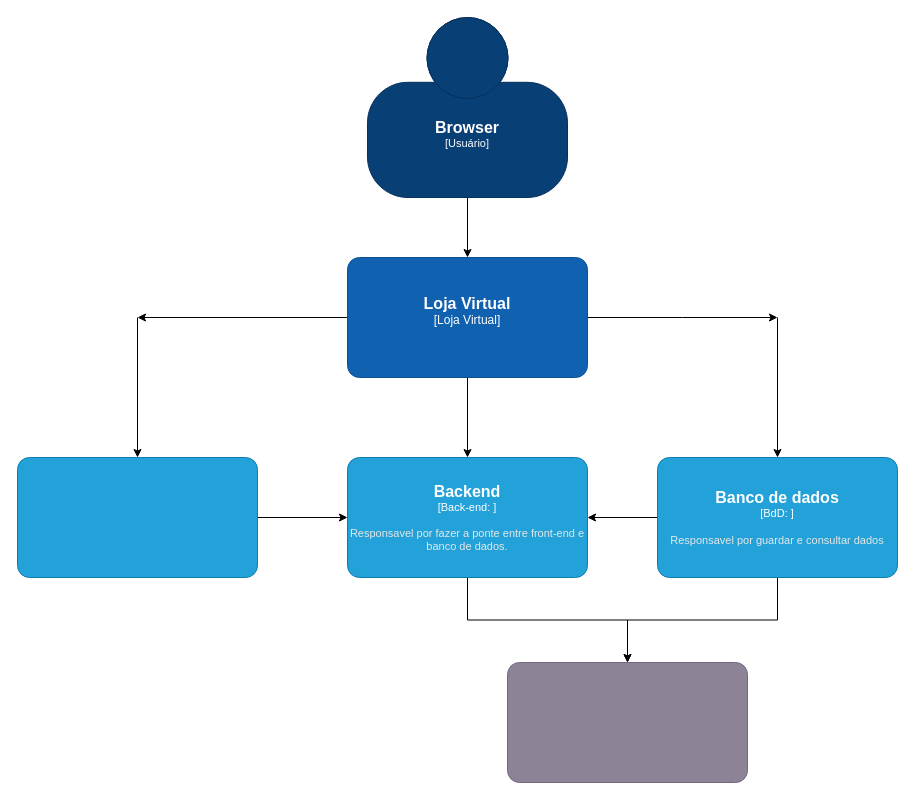
The diagram is 915 pixels wide and 800 high, and some of its shapes have lost their labels. The box of each missing label's shape, as (x1, y1, x2, y2) in pixels:
FakeStore [API] API responsavel pelo backend e compras.: (506, 662, 748, 782)
Front end [Front end: ] Front end: (16, 456, 258, 578)
